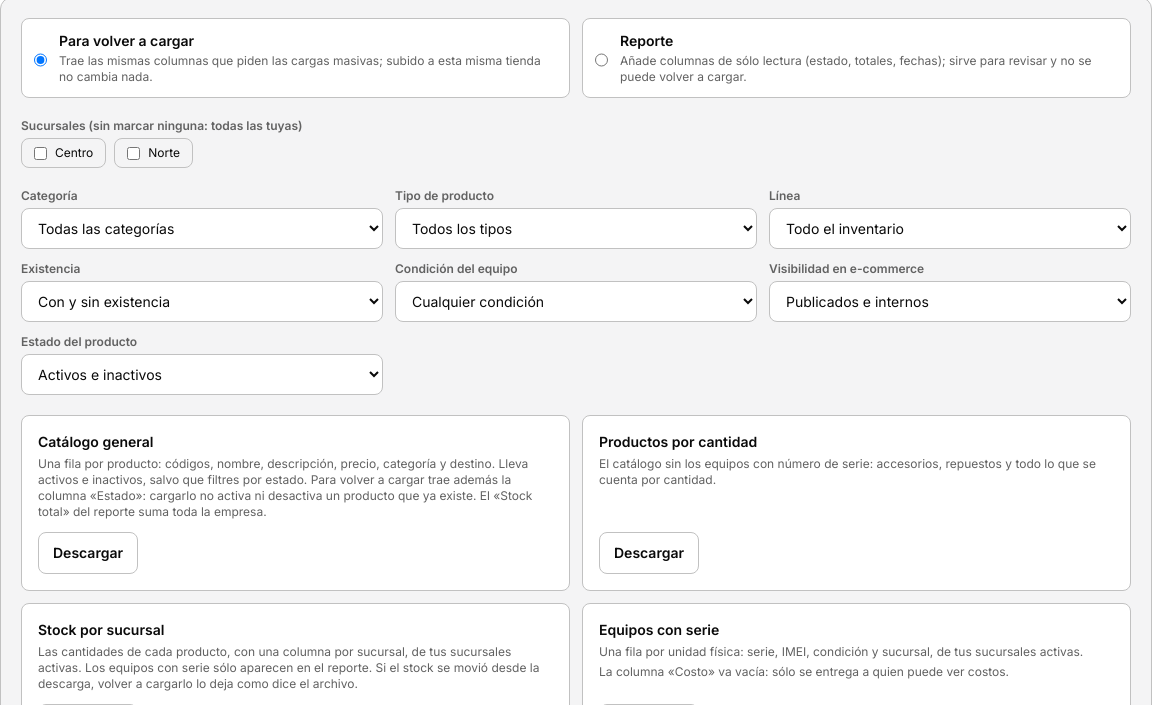
it: los filtros › el ZIP dice cuándo NO es el inventario completo
The image size is (1152, 705).
Step 1. Select "Teléfonos" in the dropdown labelled "Categoría" → x=202, y=228, box left=21, top=208, right=383, bottom=249
(page scrolled)
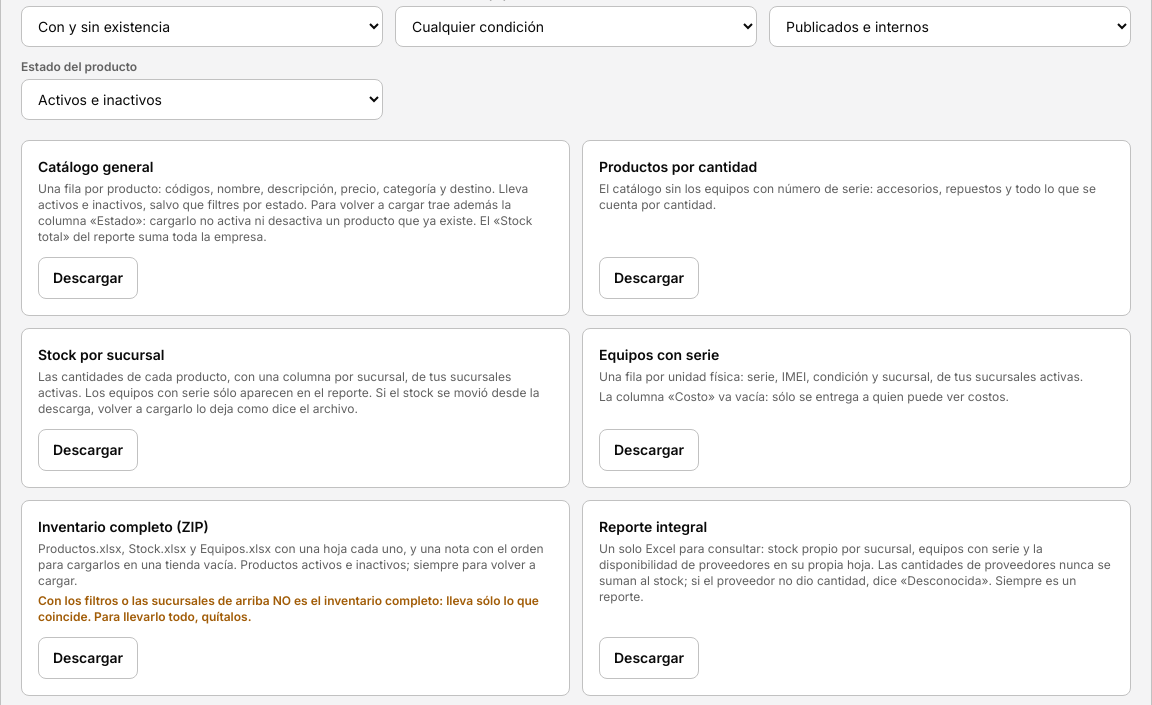
Check: the message shows "Con los filtros o las sucursales de arriba NO es el inventario completo", box left=38, top=593, right=539, bottom=624
Step 2. Click the button "Descargar" below "Inventario completo (ZIP)" → x=88, y=658, box left=38, top=637, right=138, bottom=679
(page scrolled)
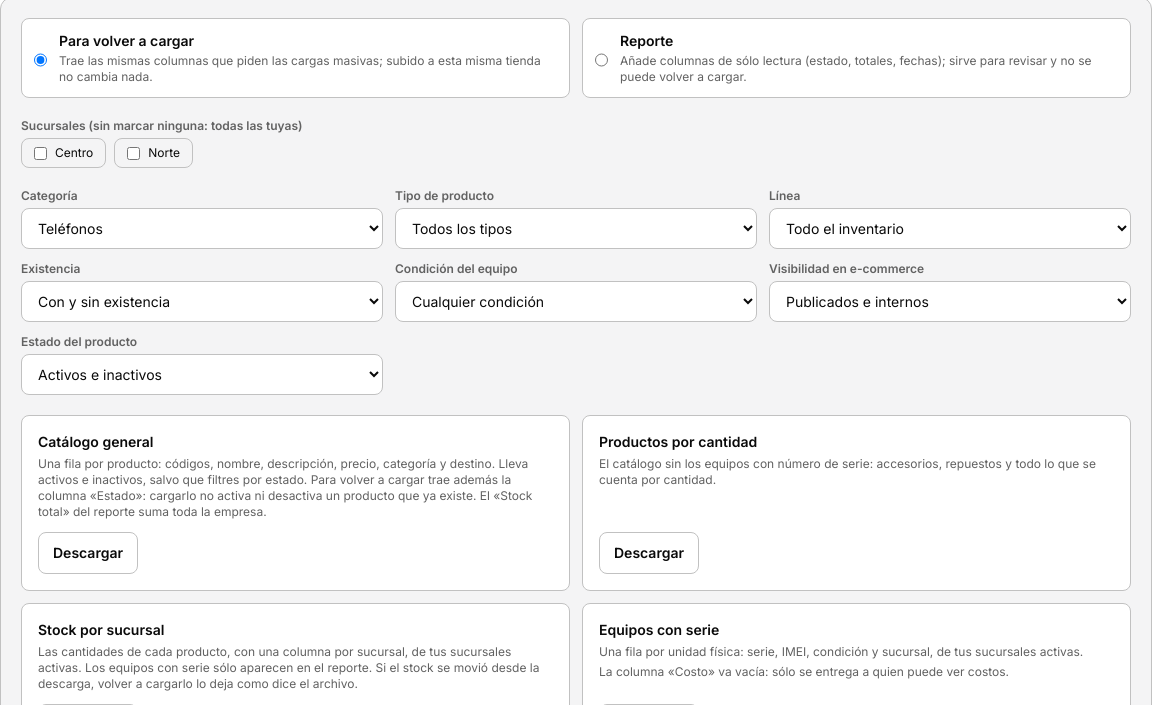
Step 3. Select "Todas las categorías" in the dropdown labelled "Categoría" → x=202, y=228, box left=21, top=208, right=383, bottom=249
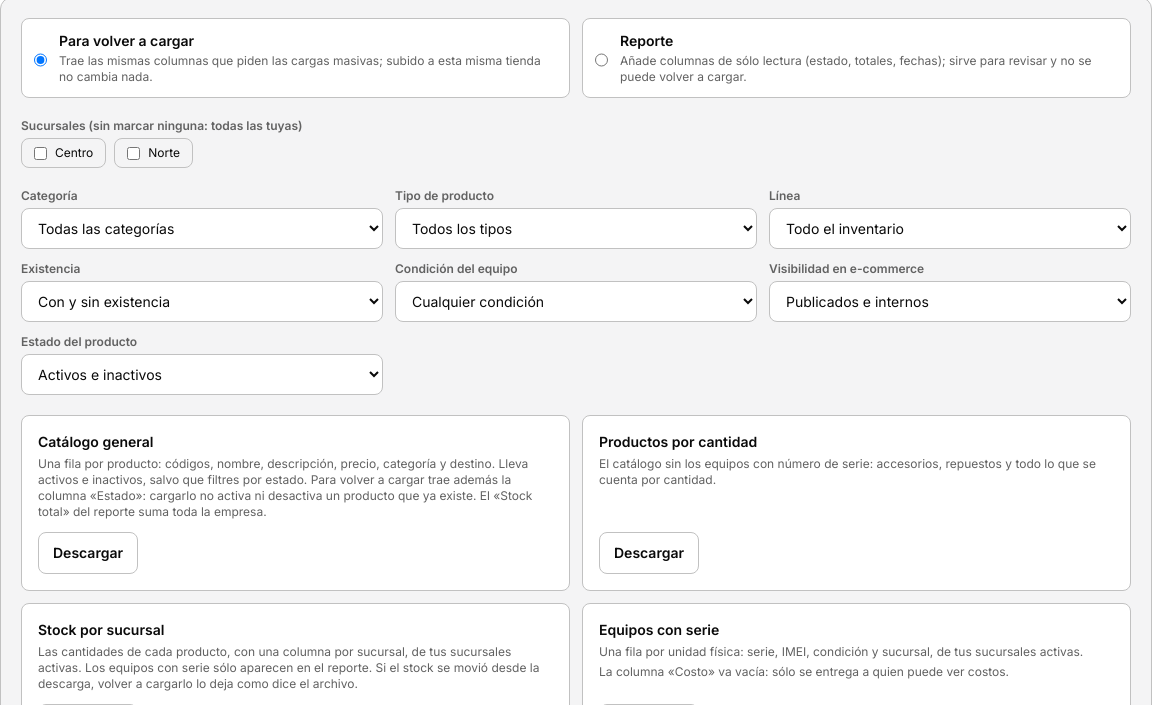
Step 4. Click the checkbox labelled "Norte" → x=134, y=153, box left=127, top=146, right=140, bottom=160
(page scrolled)
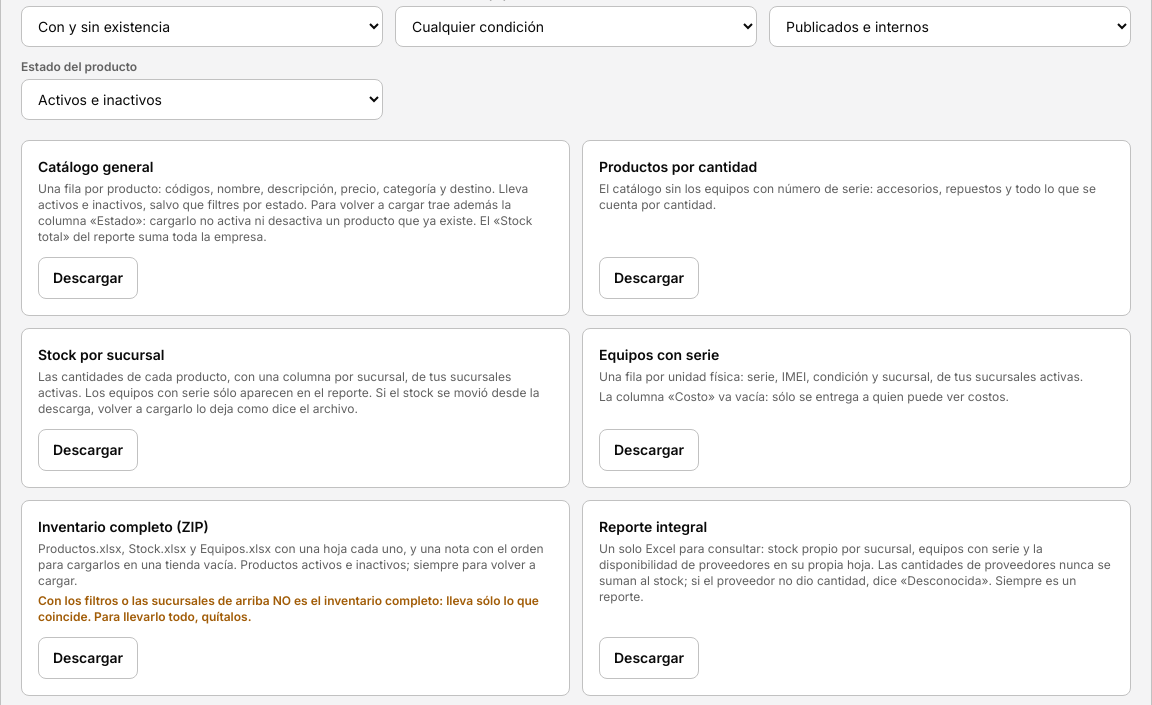
Check: the message is shown, box left=38, top=593, right=553, bottom=625
